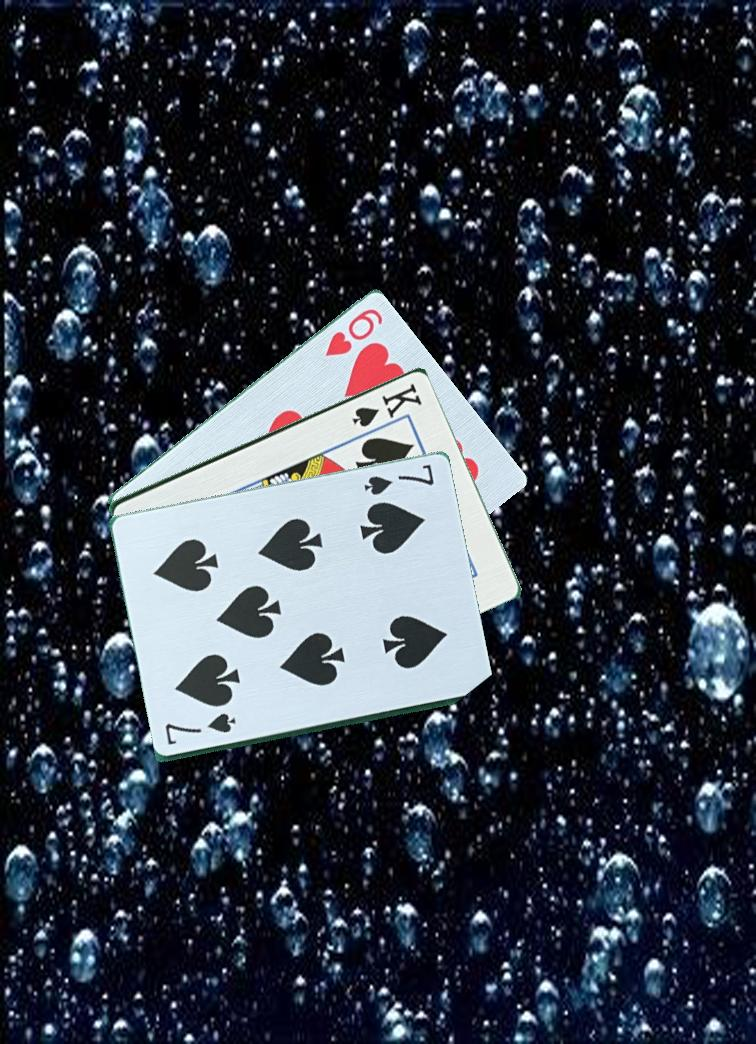6h: (321, 304, 386, 359)
7s: (161, 710, 239, 748), (361, 460, 438, 498)
ks: (348, 379, 425, 430)
